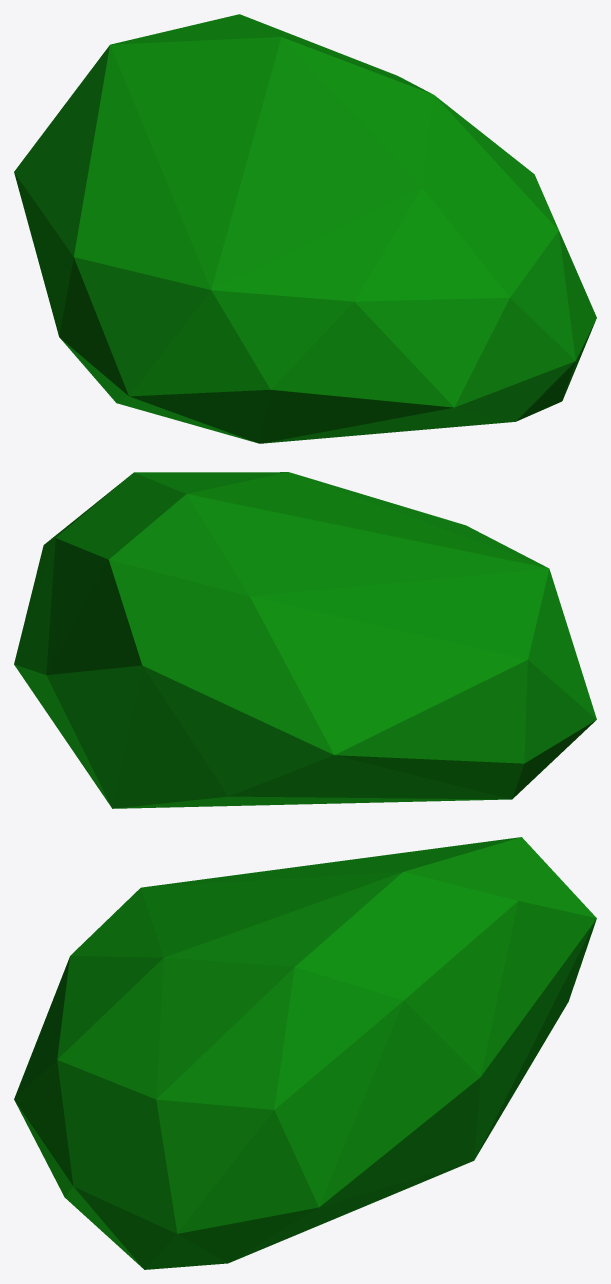
File: lp_tree6_Icosphere_005.obj
3 views of the same model, one above another, from view 1: azimuth 30°, elevation 25°; view 2: azimuth 150°, elevation 25°; view 3: azimuth 270°, elevation 25° (orthographic). The views are drawn at different scales.
Visible parts, largest first — view 1: lp_tree6_Icosphere_005; view 2: lp_tree6_Icosphere_005; view 3: lp_tree6_Icosphere_005.
Part boxes in pixels (box(x1,y1,x2,y2)): lp_tree6_Icosphere_005: box(14, 14, 596, 443); lp_tree6_Icosphere_005: box(14, 472, 596, 808); lp_tree6_Icosphere_005: box(14, 837, 596, 1269).
Bounding box in the file's own units: 3.83 × 2.43 × 4.01.
